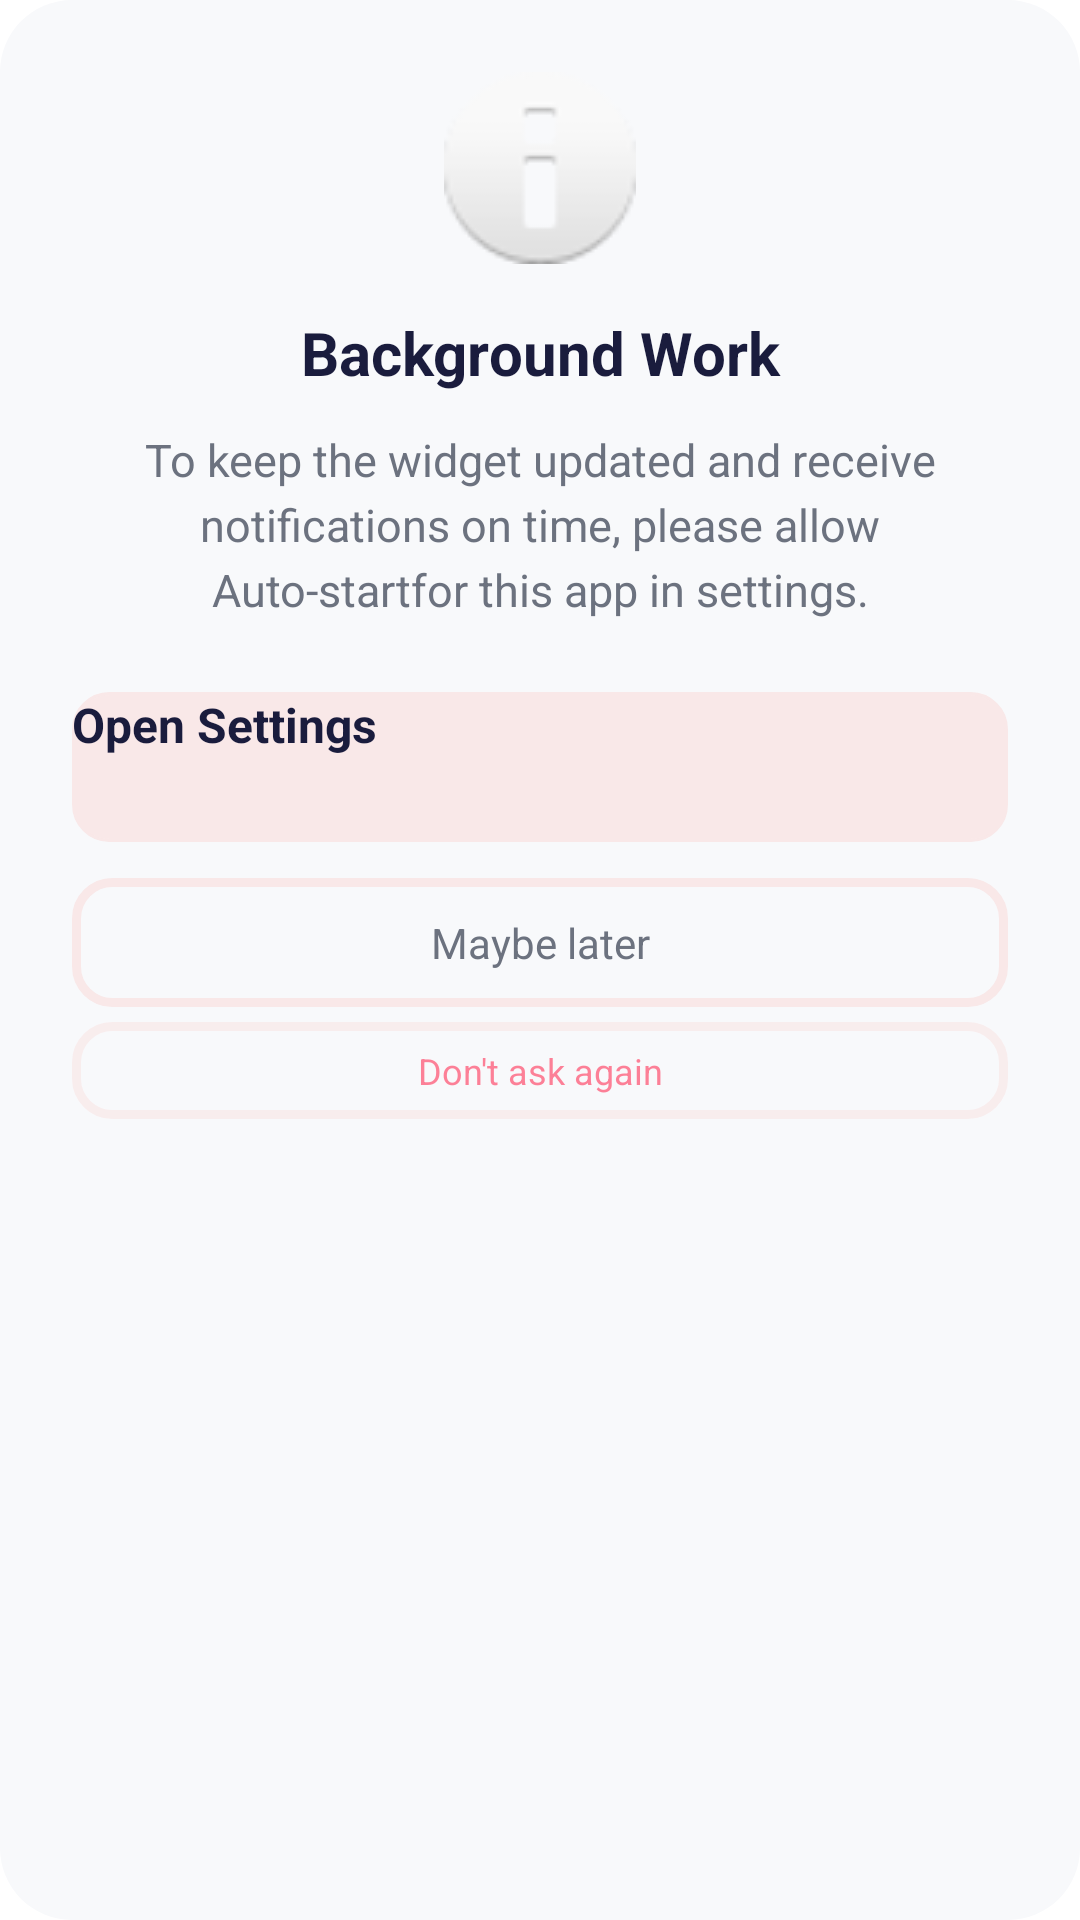

Icons on this 1080x1920 Android screen, each with its box as (x1, y1, x2, y2):
info: (444, 107, 636, 264)
